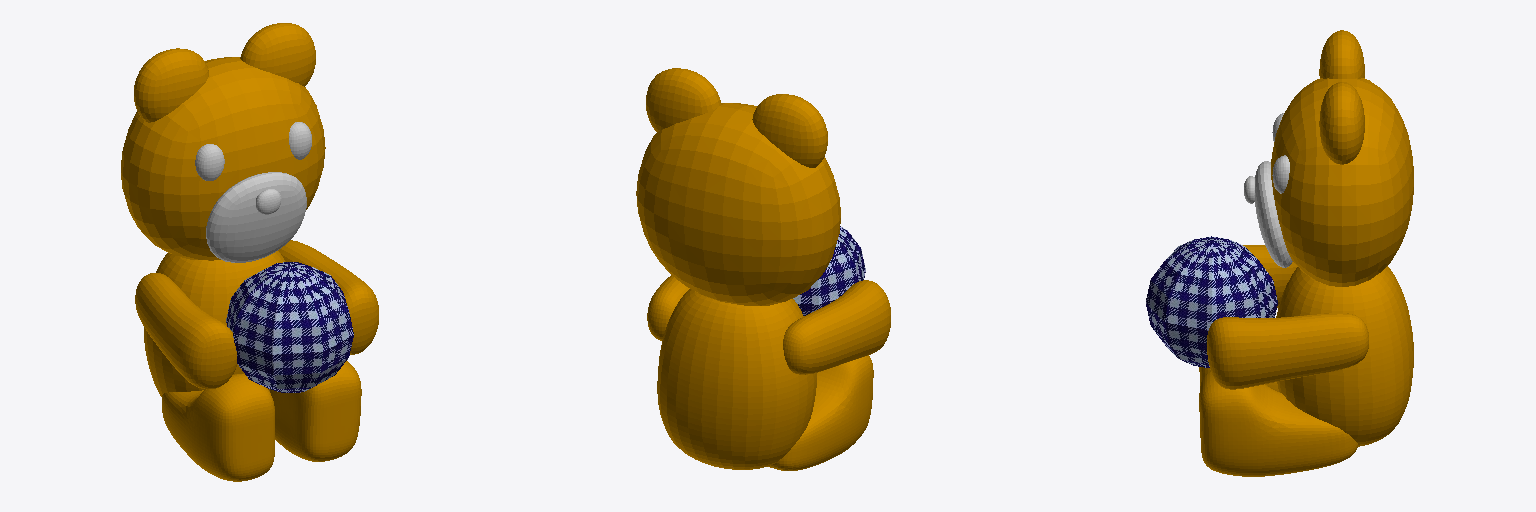
3 views of the same model, side by side, from view 1: azimuth 30°, elevation 25°; view 2: azimuth 150°, elevation 25°; view 3: azimuth 270°, elevation 25° (orthographic).
Visible parts, largest first — view 1: �F��, �F�r, �{�[��, �F�j, �F�@; view 2: �F��, �F�r, �{�[��; view 3: �F��, �F�r, �{�[��, �F�j.
Boxes of the visible parts, box(x1,y1,x2,y2) form: �F��: box(121, 23, 378, 396); �F�r: box(162, 361, 361, 481); �{�[��: box(226, 262, 353, 392); �F�j: box(206, 172, 306, 262); �F�@: box(256, 189, 280, 214); �F��: box(636, 68, 890, 469); �F�r: box(768, 355, 873, 470); �{�[��: box(793, 226, 865, 315); �F��: box(1207, 30, 1413, 446); �F�r: box(1199, 367, 1357, 476); �{�[��: box(1146, 236, 1277, 367); �F�j: box(1255, 161, 1292, 267).
Size of the model in its own units: 49.64 by 94.94 by 59.14.
3 materials, 1 textured.